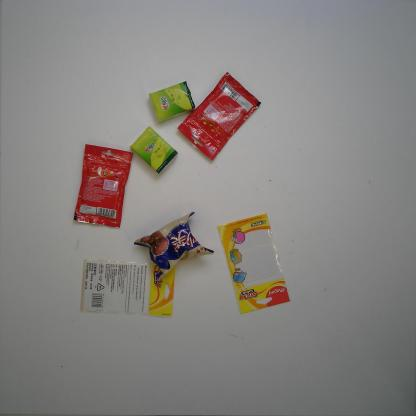Candy: (177, 71, 262, 162), (72, 142, 134, 230)
Dessert: (133, 211, 215, 280)
Stationery: (217, 211, 291, 316), (79, 258, 176, 319)
Tissue: (129, 126, 179, 176), (148, 80, 196, 125)
